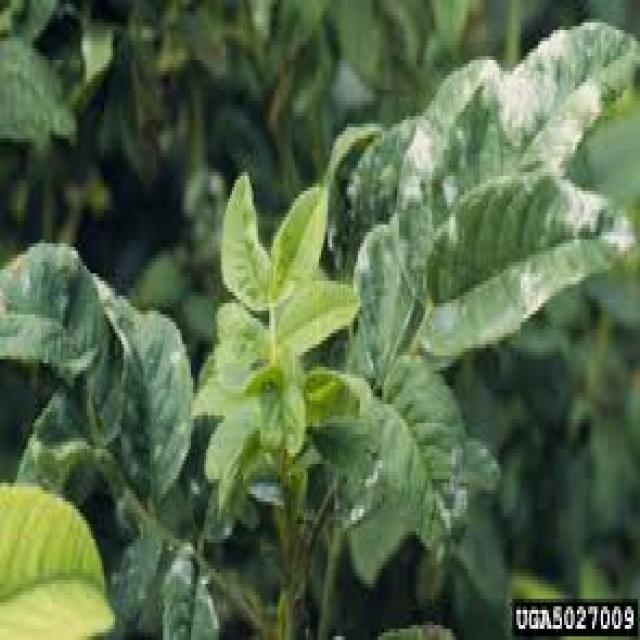powdery_mildew: (9, 195, 283, 607), (350, 18, 640, 294)
